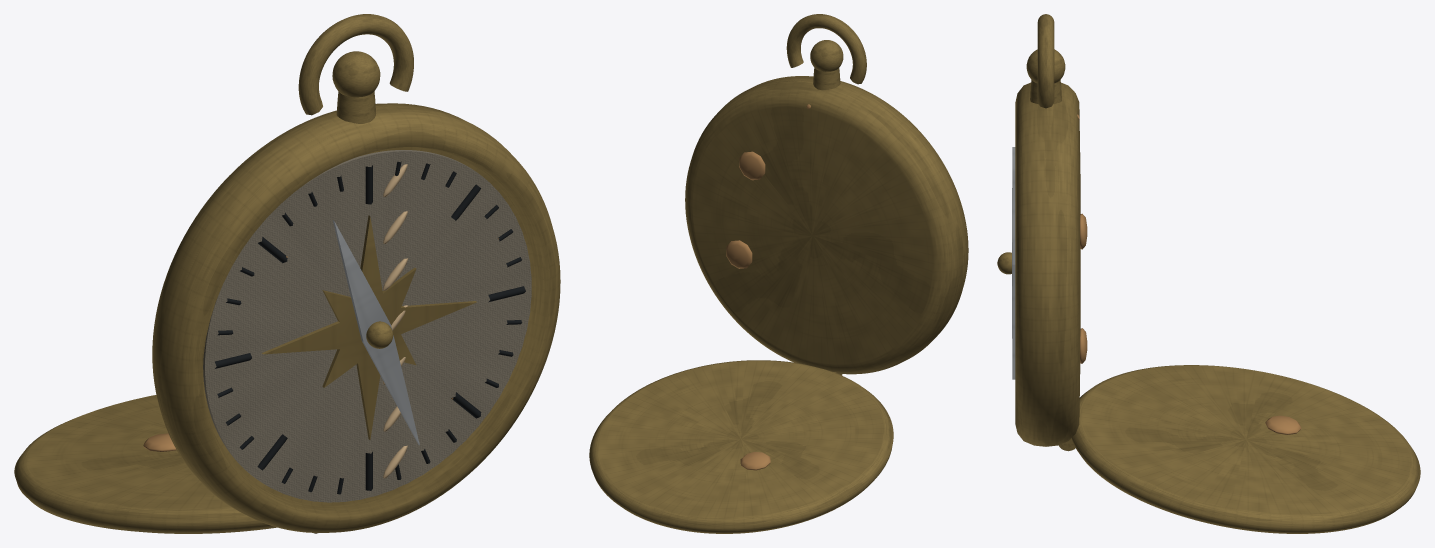
3 renders of one model, left to right at view 1: azimuth 30°, elevation 25°; view 2: azimuth 150°, elevation 25°; view 3: azimuth 270°, elevation 25°, orthographic. The views are drawn at different scales.
Parts seen in each view (by area): view 1: aged alloy edge, quilted linen lining, recess and lining, polished fluted plate, thread loop; view 2: aged alloy edge, peened pin; view 3: aged alloy edge, peened pin, polished fluted plate.
Boxes of the visible parts, x1,y1,x2,y2 form: aged alloy edge: [14, 14, 560, 533]; quilted linen lining: [203, 150, 531, 502]; recess and lining: [215, 161, 525, 494]; polished fluted plate: [332, 220, 419, 445]; thread loop: [383, 164, 408, 478]; aged alloy edge: [589, 14, 968, 533]; peened pin: [726, 104, 810, 470]; aged alloy edge: [997, 14, 1420, 533]; peened pin: [1077, 114, 1301, 434]; polished fluted plate: [1012, 147, 1015, 379].
Bounding box in the file's own units: 0.132 × 0.1847 × 0.1522.
Materials: 6 (3 with a texture image).
